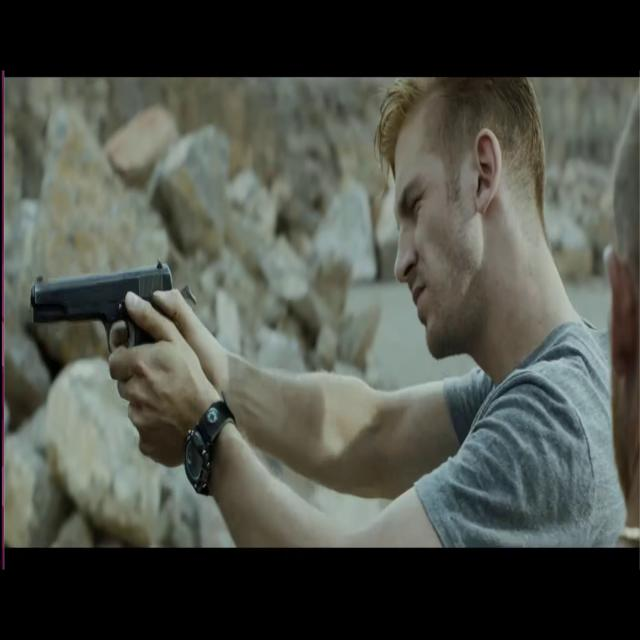weapons: (21, 249, 205, 381)
